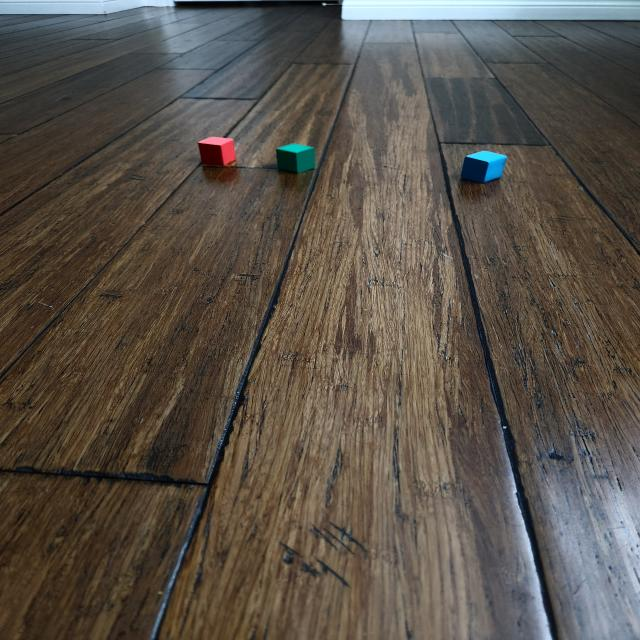bluecube: (463, 150, 506, 184)
green cube: (276, 142, 316, 172)
red cube: (199, 135, 237, 165)
